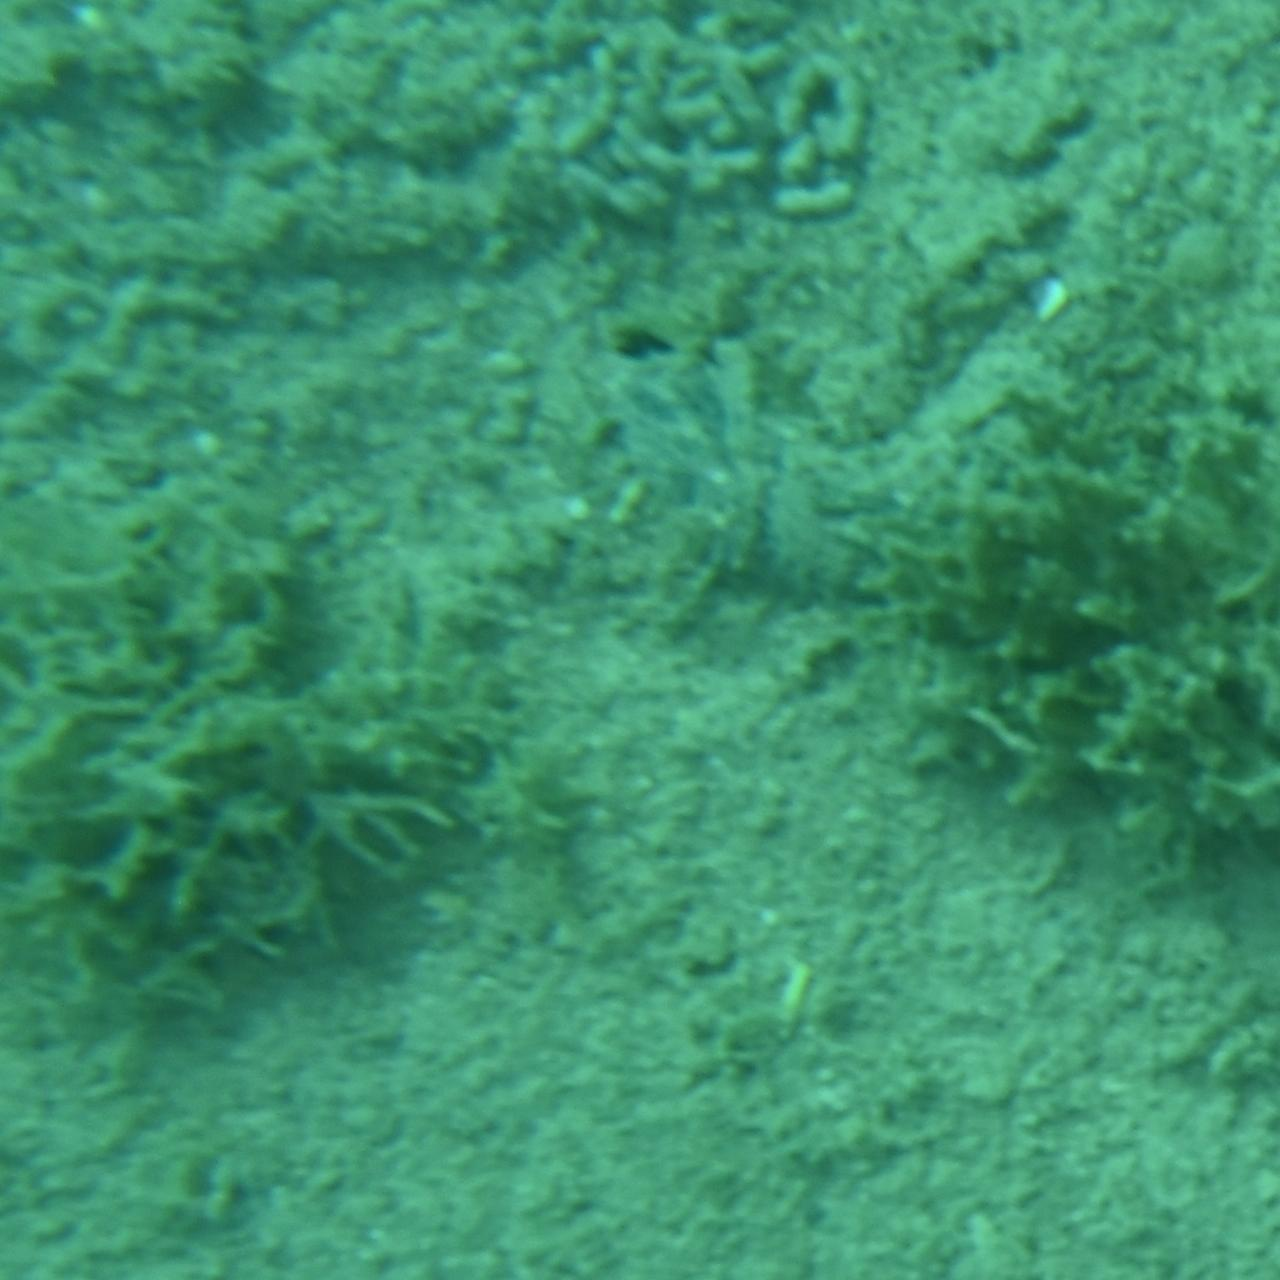Holothuria tubulosa: (602, 313, 1173, 644)
Phaeophyceae -cfr Cystoseira-: (0, 531, 475, 1074), (879, 390, 1280, 899)
